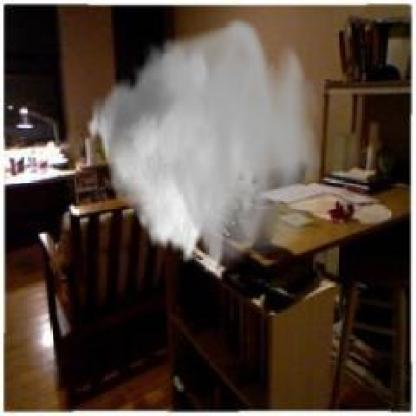Smoke: (78, 22, 336, 256)
